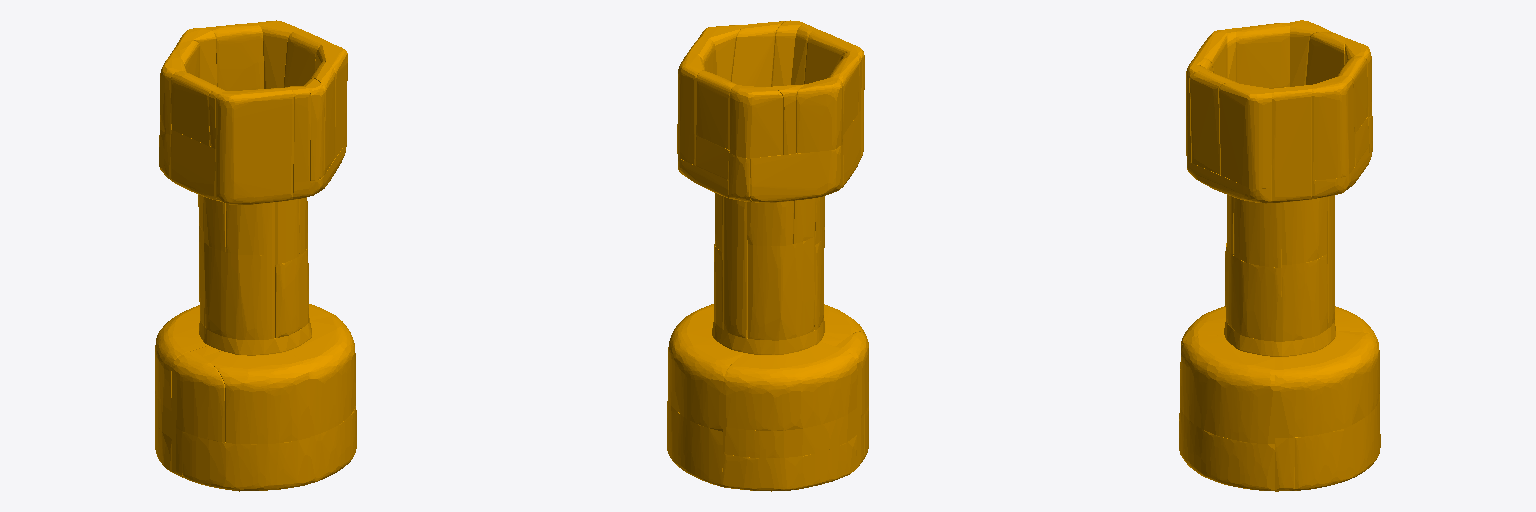
URDF robot description (072-c_toy_airplane):
<?xml version="1.0" encoding="UTF-8"?>
<robot name="072-c_toy_airplane">
	<link name="base">
		<collision>
			<geometry>
				<mesh filename="..\vhacd\072-c_toy_airplane_vhacd.obj" scale="1.0 1.0 1.0"/>
			</geometry>
			<origin xyz="0 0 0"/>
			<contact_coefficients mu="0.24" />
		</collision>
		<visual>
			<geometry>
				<mesh filename="..\vhacd\072-c_toy_airplane_vhacd.obj" scale="1.0 1.0 1.0"/>
			</geometry>
			<origin xyz="0 0 0"/>
		</visual>
		<inertial>
			<mass value="0"/>
			<inertia ixx="0.0" ixy="0.0" ixz="0.0" iyy="0.0" iyz="0.0" izz="0.0" />
			<origin xyz="-0.03339875325515947 0.0033844431177229174 0.02614525215890499"/>
		</inertial>
	</link>
</robot>

--- Facts derived from the render (not from the file) ---
3 views of the same robot in one strip: view 1: azimuth 30°, elevation 25°; view 2: azimuth 150°, elevation 25°; view 3: azimuth 270°, elevation 25° (orthographic).
Model 072-c_toy_airplane with 1 links and 0 joints (none), rooted at base, posed every joint at zero.
Links seen in each view (by area): view 1: base; view 2: base; view 3: base.
Boxes of the visible links, x1,y1,x2,y2 form: base: (155,20,356,491); base: (667,20,868,491); base: (1179,20,1380,491).
Size in the robot's own frame: 0.0308 by 0.0308 by 0.0669 metres.
Meshes: 1 distinct files referenced, 1 mesh visuals loaded (1 OBJ).